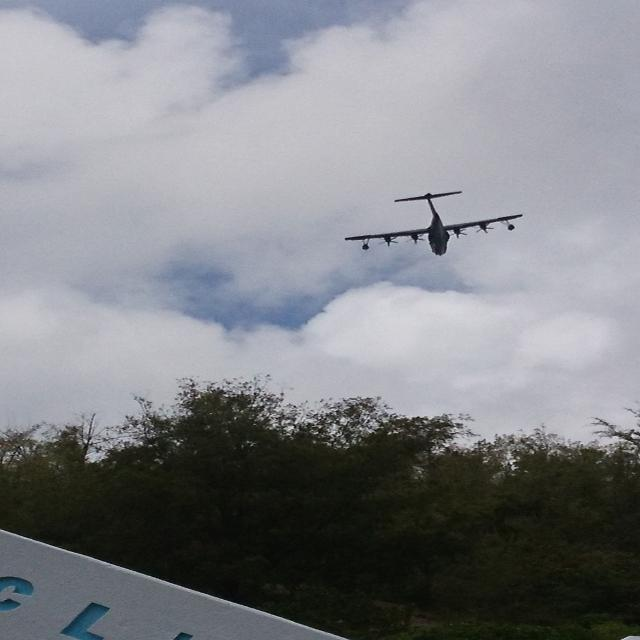MIL_Plane: (344, 191, 523, 256)
